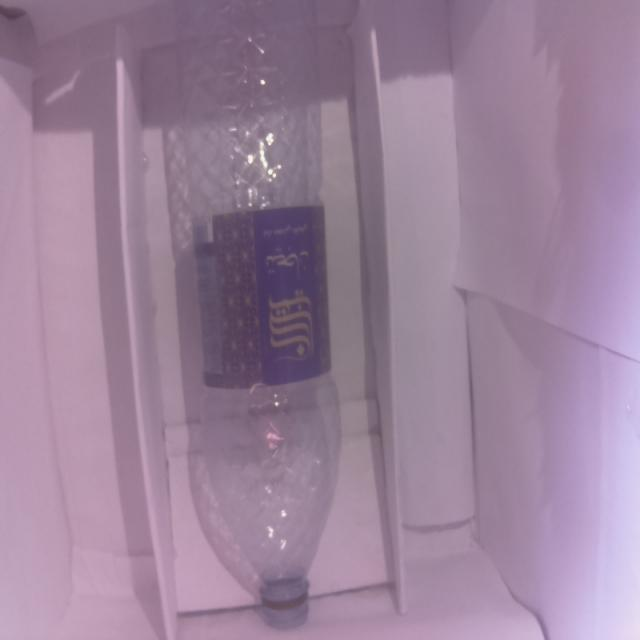plastic_bottle: (176, 0, 342, 629)
